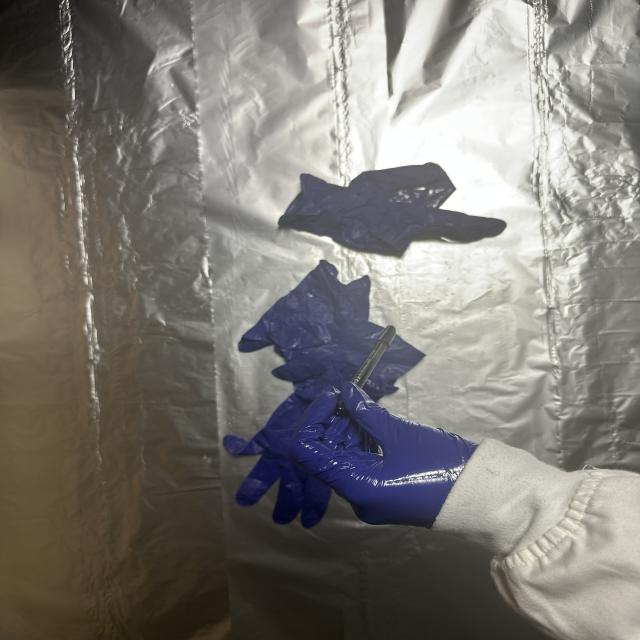gloves_contaminated: (289, 382, 478, 528)
